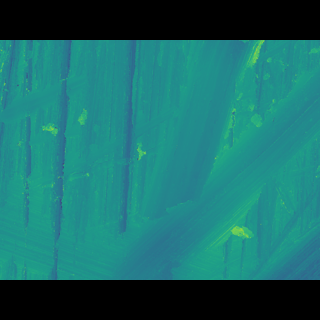Loch: (112, 71, 319, 250)
